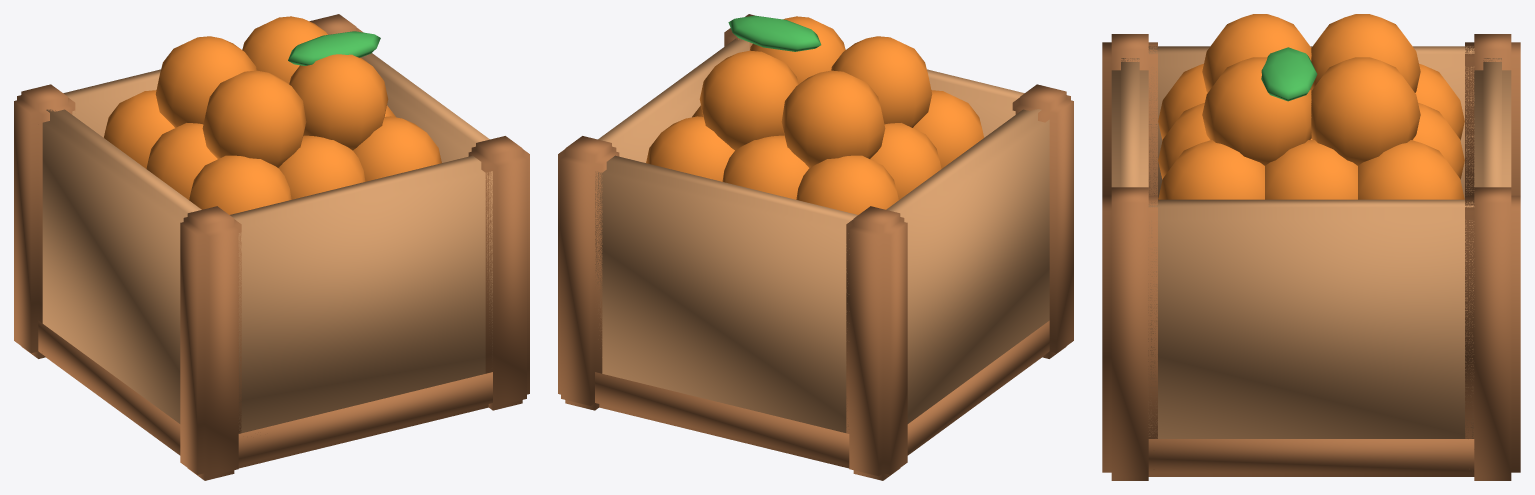
Rendered from CrateOranges.fbx.
3 views of the same model, side by side, from view 1: azimuth 30°, elevation 25°; view 2: azimuth 150°, elevation 25°; view 3: azimuth 270°, elevation 25° (orthographic). The views are drawn at different scales.
Visible parts, largest first — view 1: CrateOranges; view 2: CrateOranges; view 3: CrateOranges.
Boxes of the visible parts, x1,y1,x2,y2 form: CrateOranges: (14, 14, 529, 480); CrateOranges: (558, 14, 1073, 480); CrateOranges: (1102, 14, 1520, 480).
Size of the model in its own units: 0.9 by 0.857 by 0.9.
